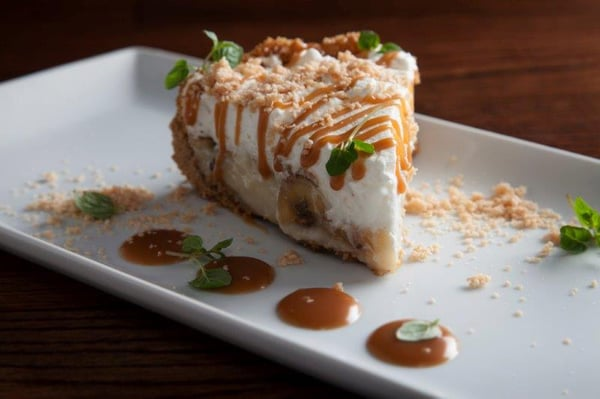curry: (6, 2, 598, 396)
sushi: (164, 29, 422, 276)
